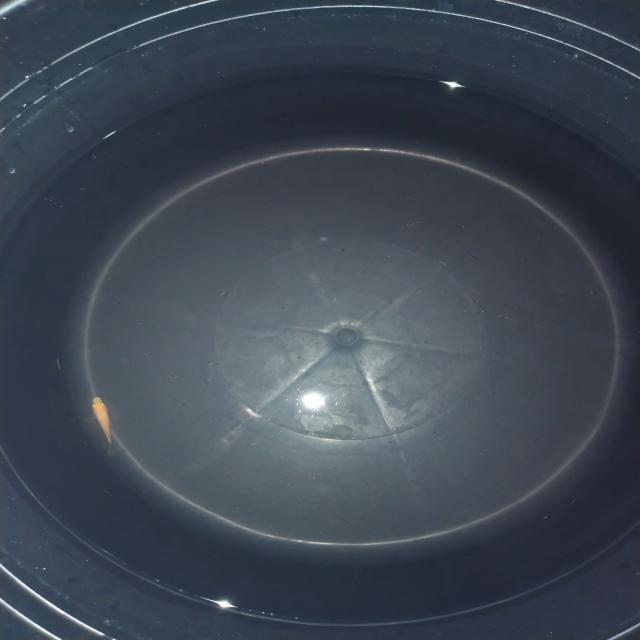nila: (86, 393, 120, 457)
